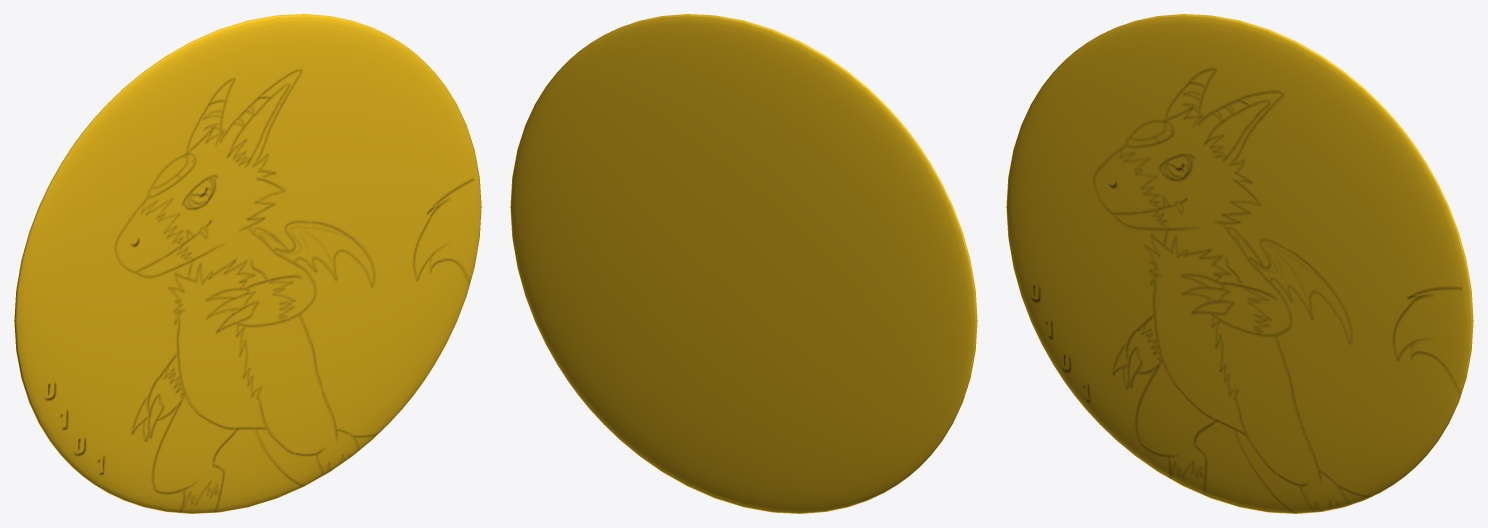
Rendered from Dorumoneda.fbx.
The picture shows the model from 3 angles, left to right: view 1: azimuth 30°, elevation 25°; view 2: azimuth 150°, elevation 25°; view 3: azimuth 330°, elevation 25°; orthographic projection.
Visible parts, largest first — view 1: root; view 2: root; view 3: root.
Boxes of the visible parts, x1=… form: root: x1=14, y1=14, x2=481, y2=513; root: x1=510, y1=14, x2=977, y2=513; root: x1=1006, y1=14, x2=1473, y2=513.
Bounding box in the file's own units: 0.4886 × 0.4866 × 0.0312.
Materials: 1 (1 with a texture image).
